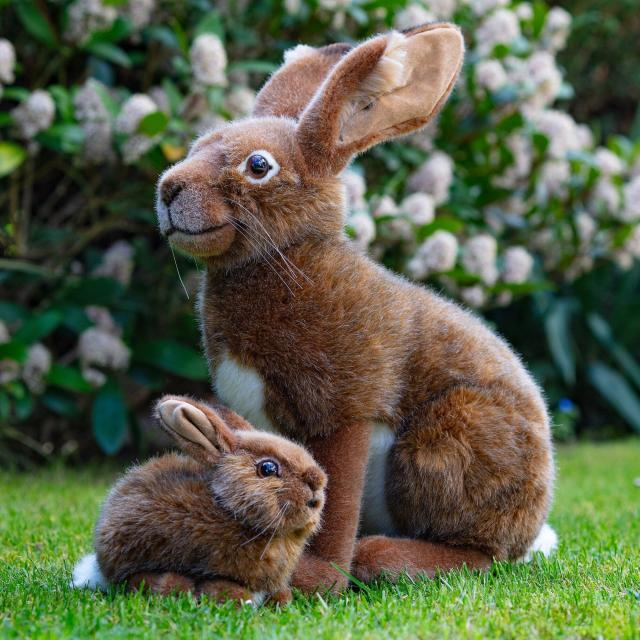Hare: (146, 13, 561, 583), (77, 388, 326, 608)
